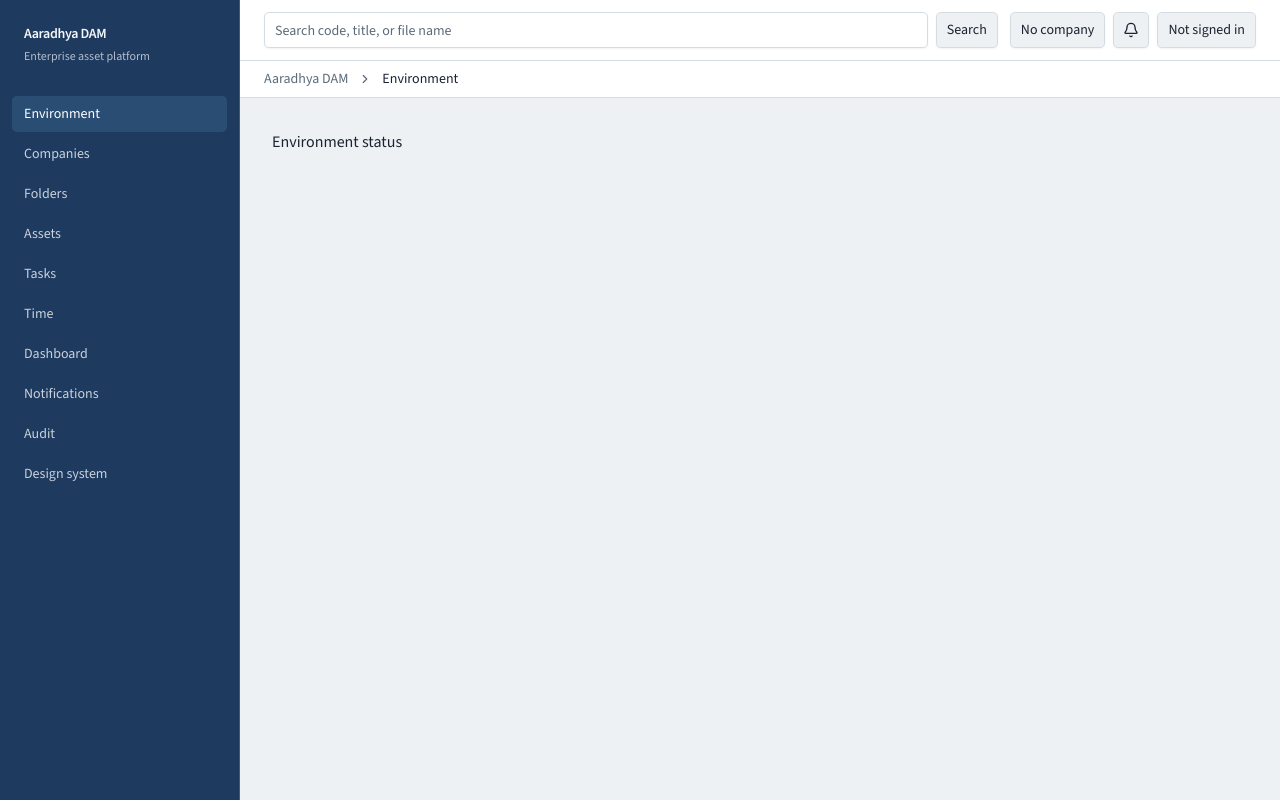
Scenario: AppShell › searches asset codes, titles, and file names
Type "SAPL-0001" into the field labelled "Search" at (596, 30), box left=264, top=12, right=928, bottom=48
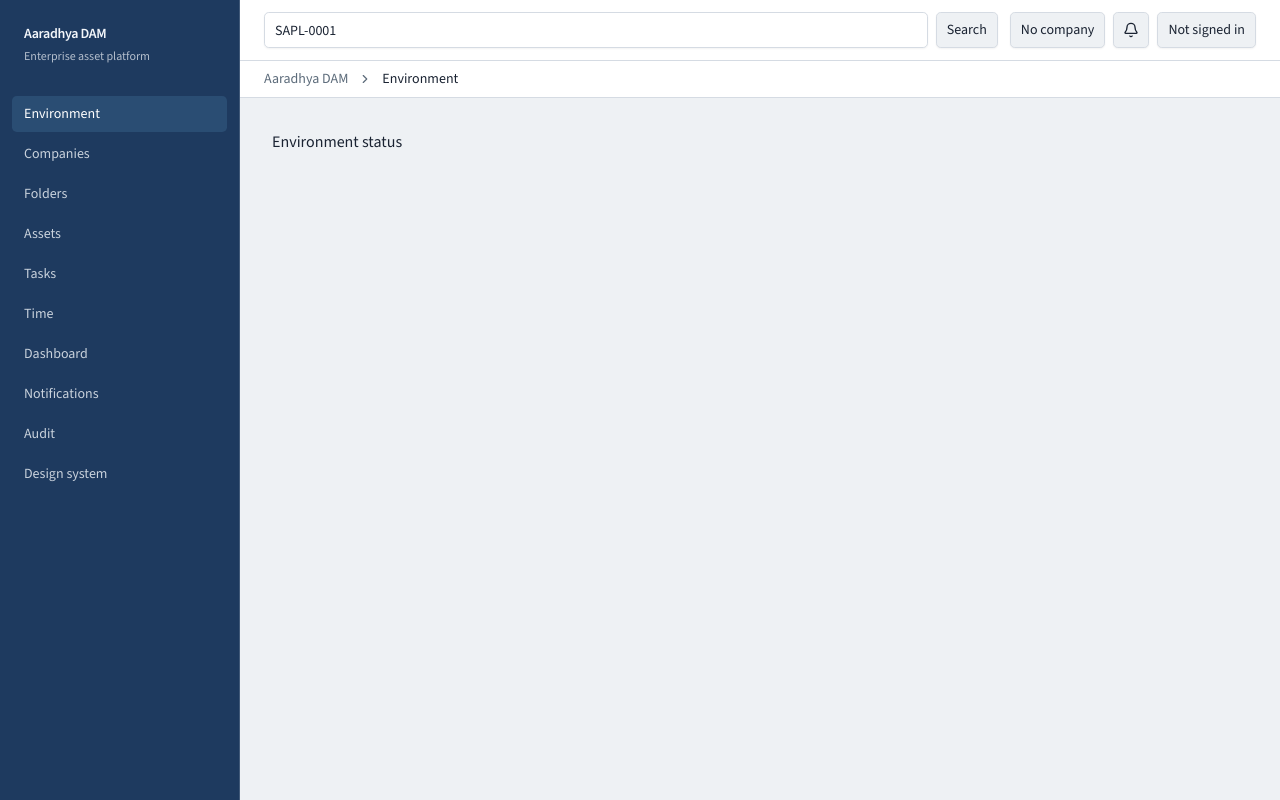
Click the button "Search" at (967, 30), box left=936, top=12, right=998, bottom=48
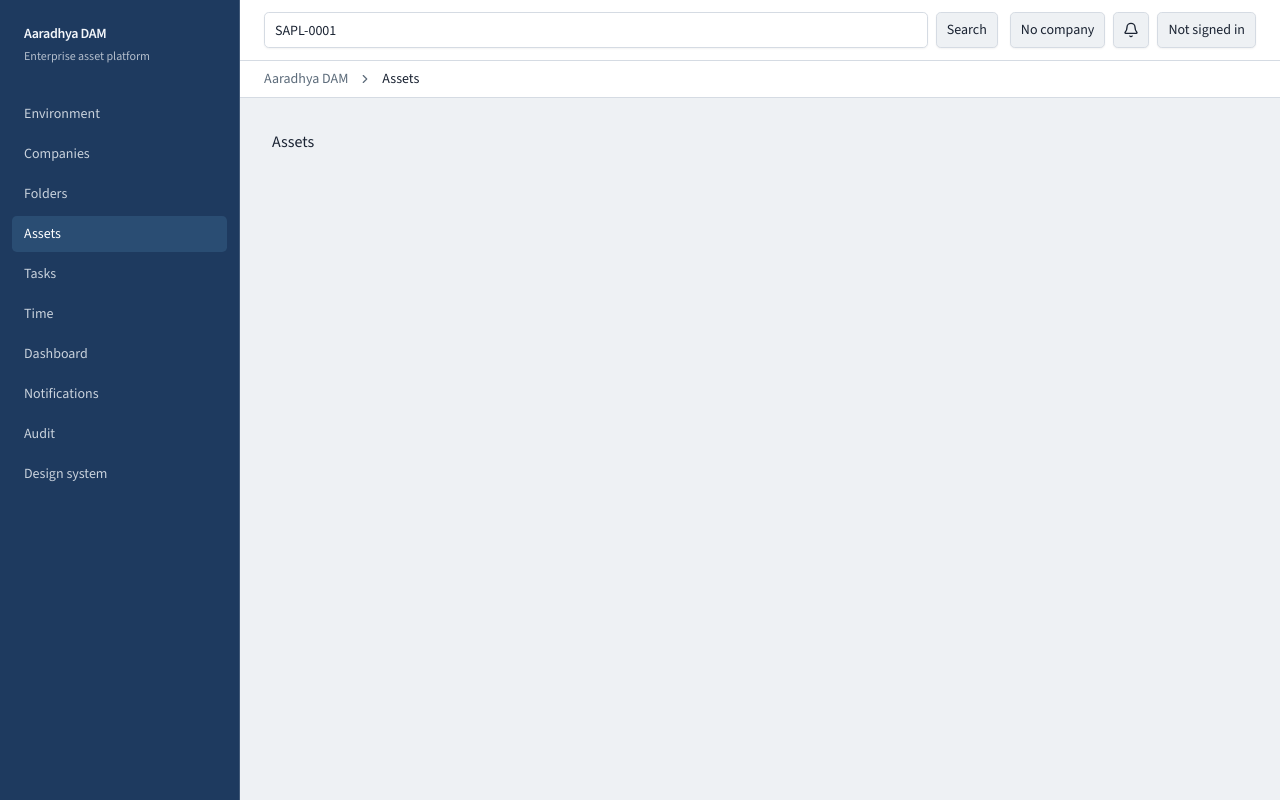
Now the heading "Assets" is shown, box left=272, top=131, right=314, bottom=152
